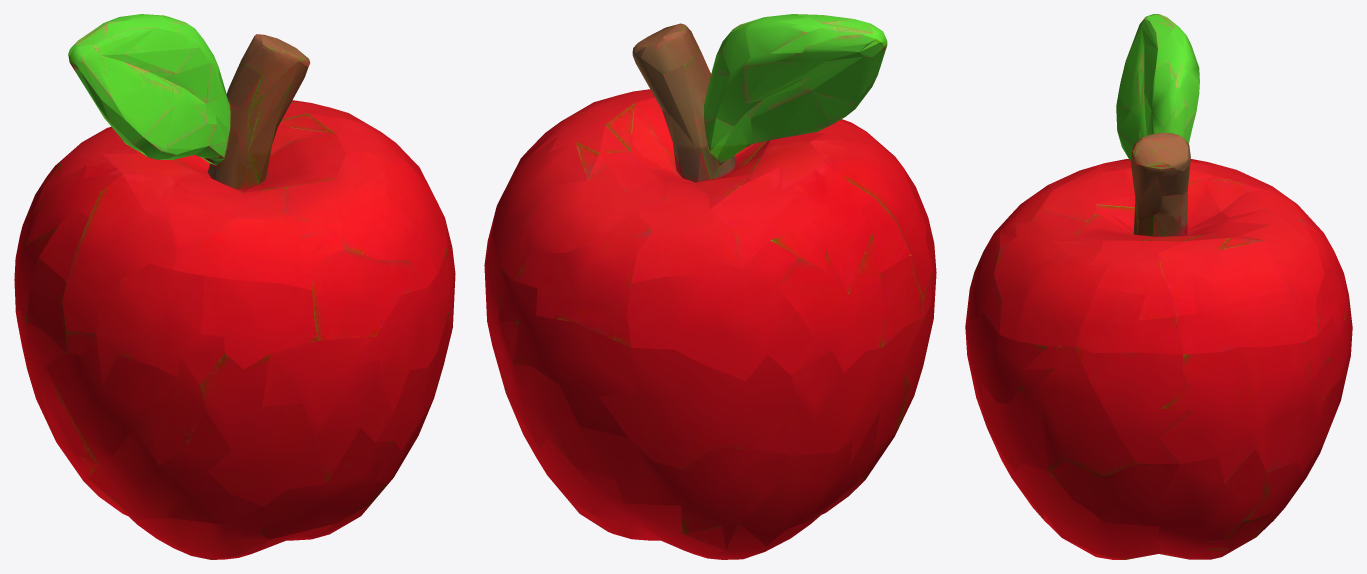
Rendered from apple.glb.
The picture shows the model from 3 angles, left to right: view 1: azimuth 30°, elevation 25°; view 2: azimuth 150°, elevation 25°; view 3: azimuth 270°, elevation 25°; orthographic projection. The views are drawn at different scales.
Bounding box in the file's own units: 1.44 × 1.9 × 1.45.
Materials: 1 (1 with a texture image).
